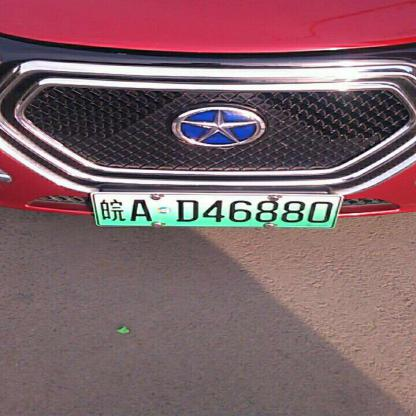lp: (94, 195, 340, 226)
